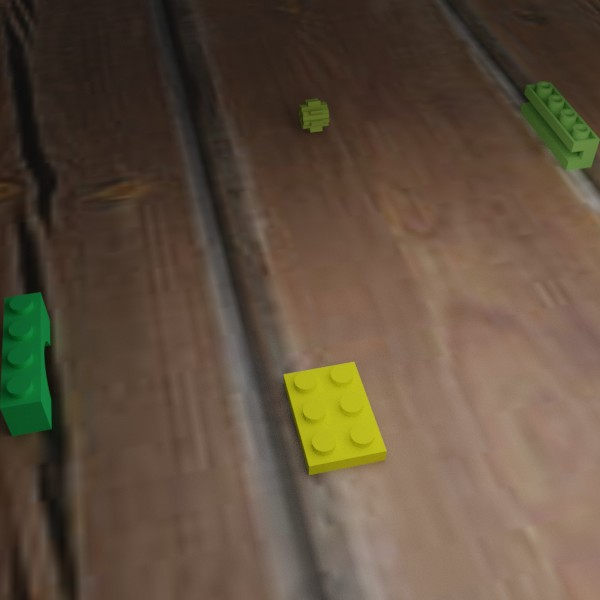lego: (283, 361, 386, 475), (0, 292, 51, 436), (520, 81, 600, 170), (298, 98, 329, 132)
